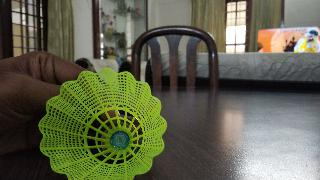shuttlecock: (38, 68, 166, 180)
